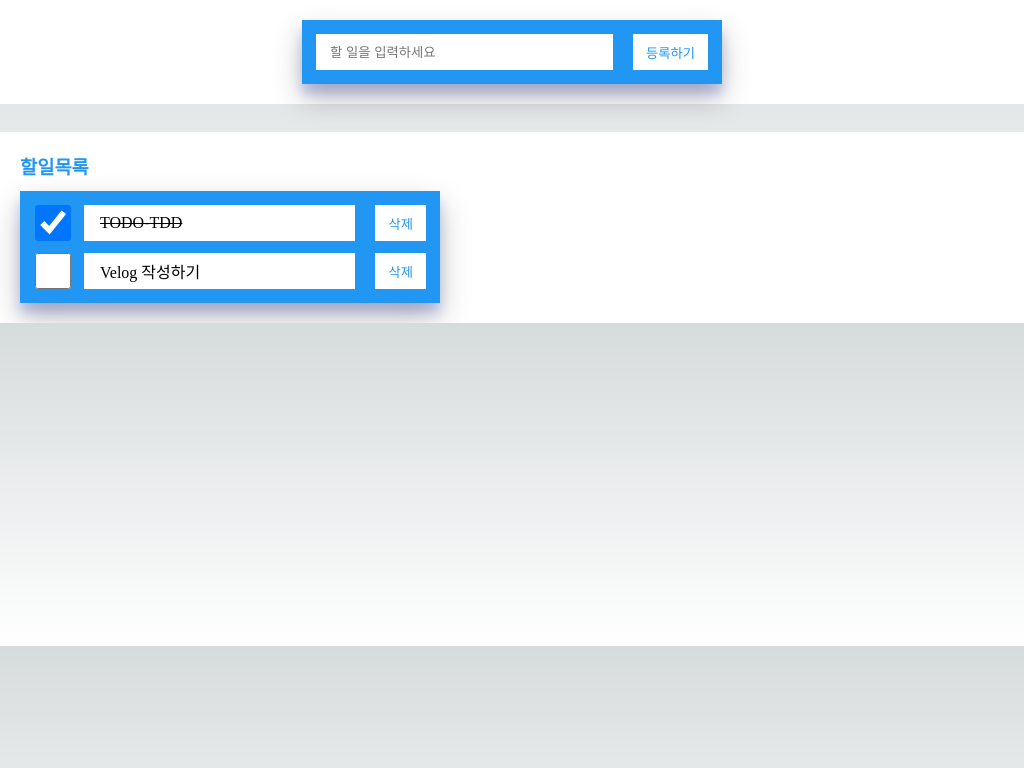
Test: <TodoApp /> › create new todo
Type "라면 끓이기" into the field with placeholder "할 일을 입력하세요" at {"x": 464, "y": 52}, box left=316, top=34, right=613, bottom=70
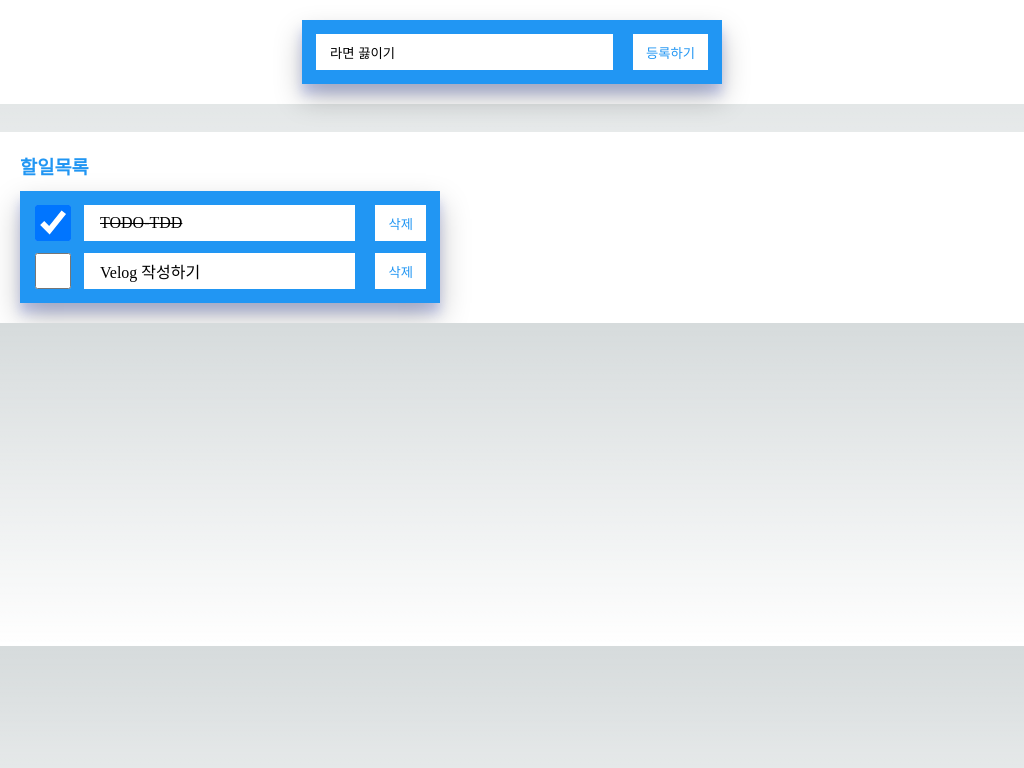
Click the button "등록하기" at {"x": 670, "y": 52}, box left=633, top=34, right=708, bottom=70
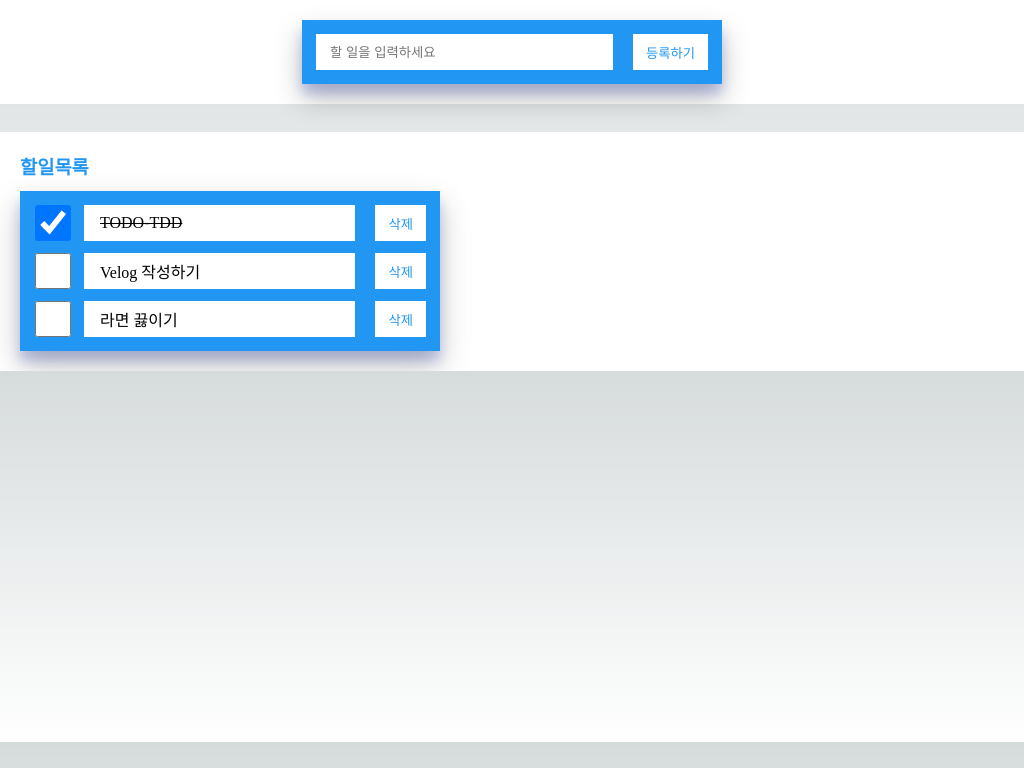
Check: the text "라면 끓이기" is shown, box left=100, top=307, right=178, bottom=331
